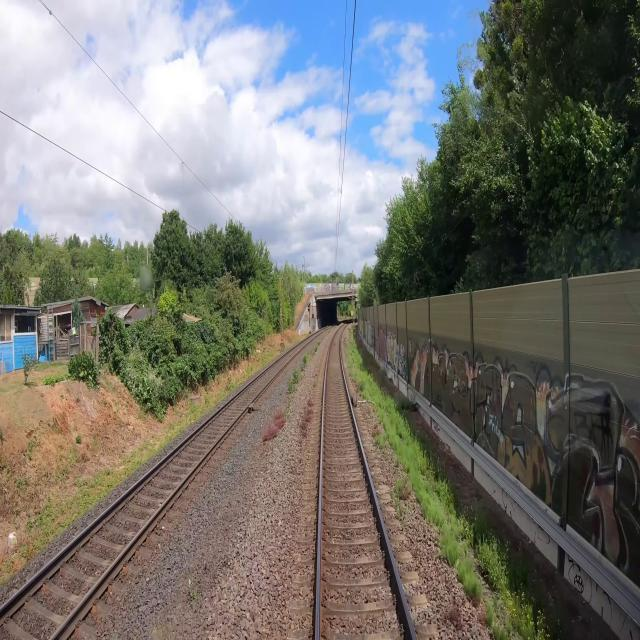Plant: (344, 342, 400, 469), (390, 473, 412, 522), (262, 409, 289, 444), (301, 339, 321, 372), (299, 408, 314, 437), (288, 367, 302, 393), (185, 578, 197, 602), (150, 624, 164, 639), (311, 380, 318, 388), (307, 398, 313, 406)
